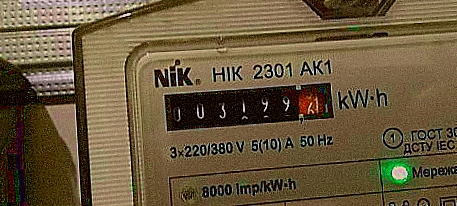0: (194, 101, 206, 121), (171, 103, 181, 122)
1: (238, 95, 248, 114)
3: (216, 100, 227, 120)
6: (304, 100, 315, 114)
9: (259, 93, 270, 114), (281, 94, 292, 112)
screen: (156, 73, 341, 138)
